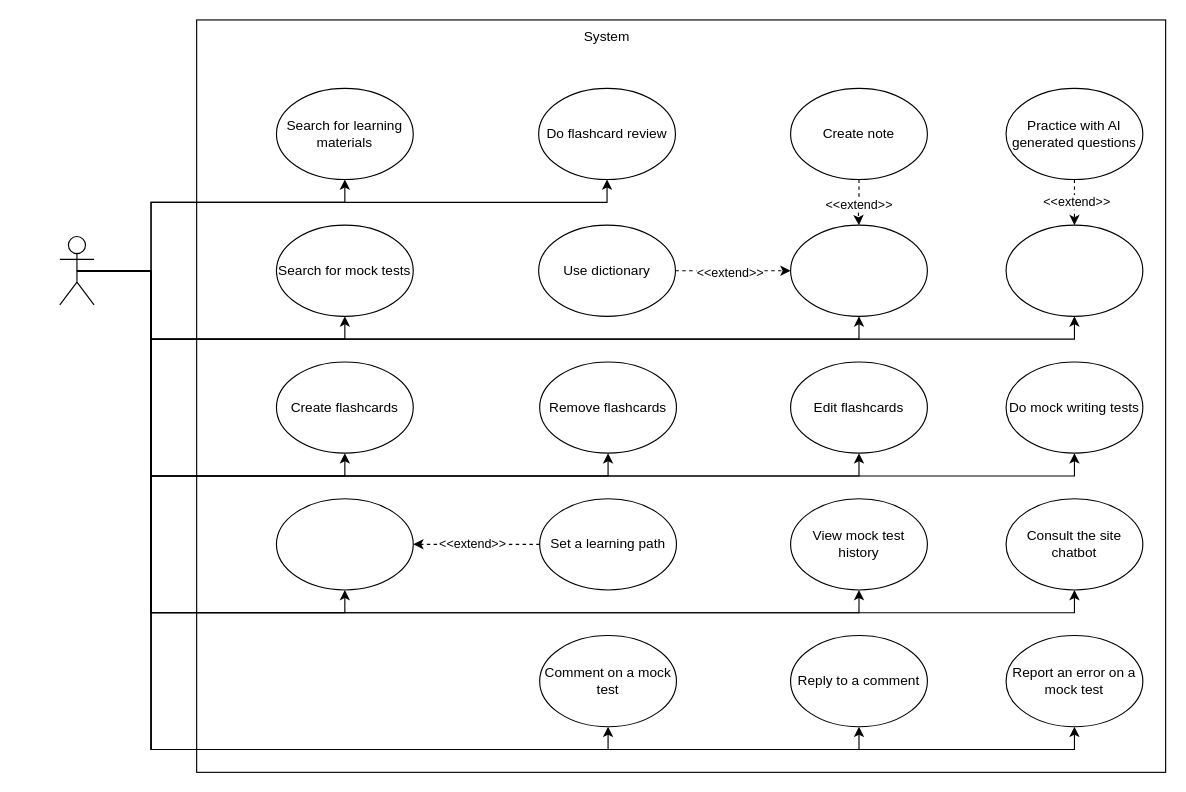
The diagram is 1186 pixels wide and 792 high, and some of its shapes have lost their labels. Each missing label, with the centre of its shape:
Authenticated user: the point at 76,270
Do mock reading and listening tests: the point at 858,270
Do mock speaking tests: the point at 1074,270
Set aims: the point at 344,544
